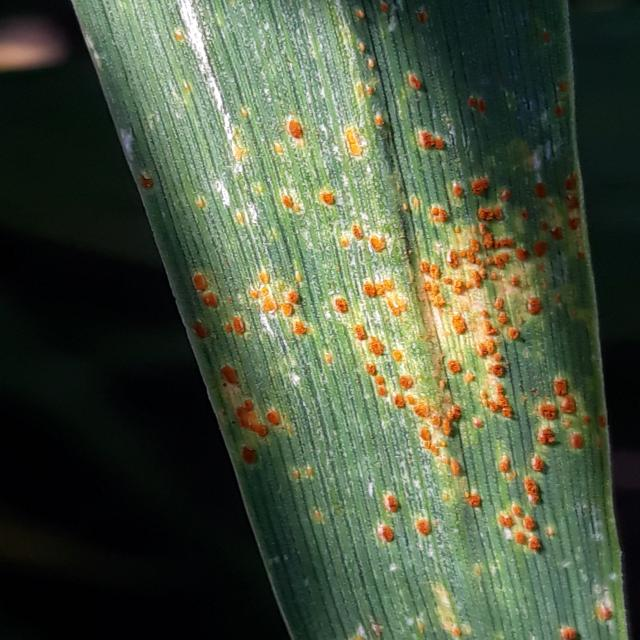orang_rust: (66, 0, 640, 639)
